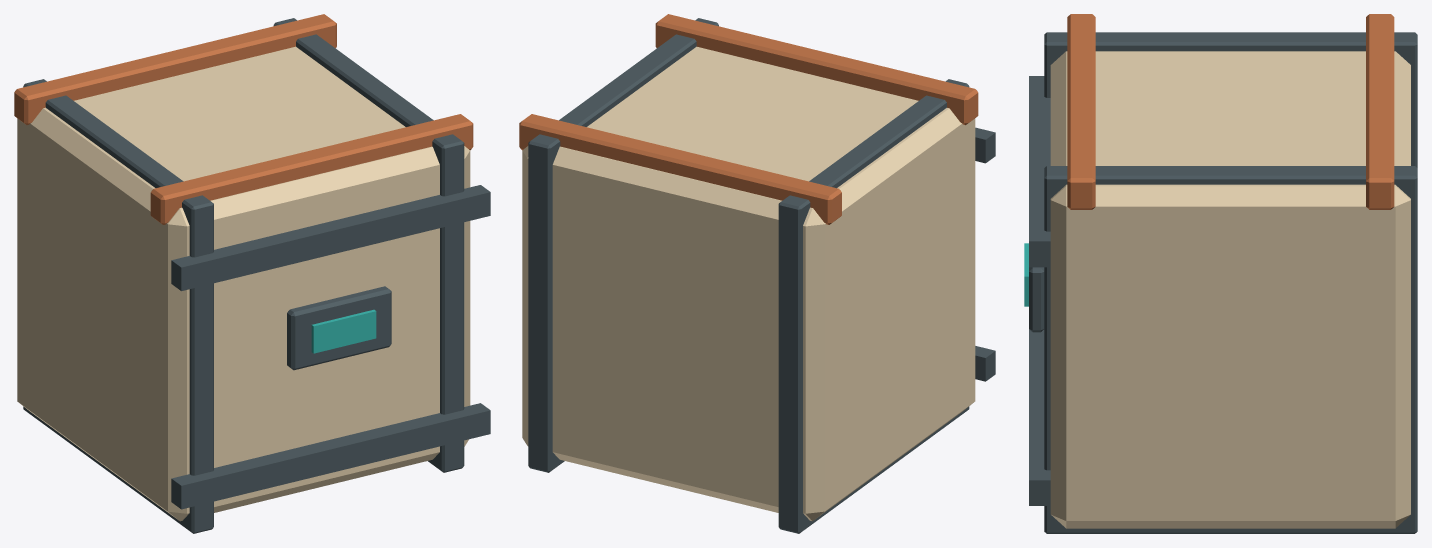
File: SM_Crate.fbx
The picture shows the model from 3 angles, left to right: view 1: azimuth 30°, elevation 25°; view 2: azimuth 150°, elevation 25°; view 3: azimuth 270°, elevation 25°; orthographic projection. The views are drawn at different scales.
Visible parts, largest first — view 1: SM_Crate; view 2: SM_Crate; view 3: SM_Crate.
Boxes of the visible parts, <box> form: SM_Crate: <box>14,14,490,533</box>; SM_Crate: <box>519,14,995,533</box>; SM_Crate: <box>1024,14,1417,533</box>.
Size of the model in its own units: 0.9 by 0.895 by 0.92.
